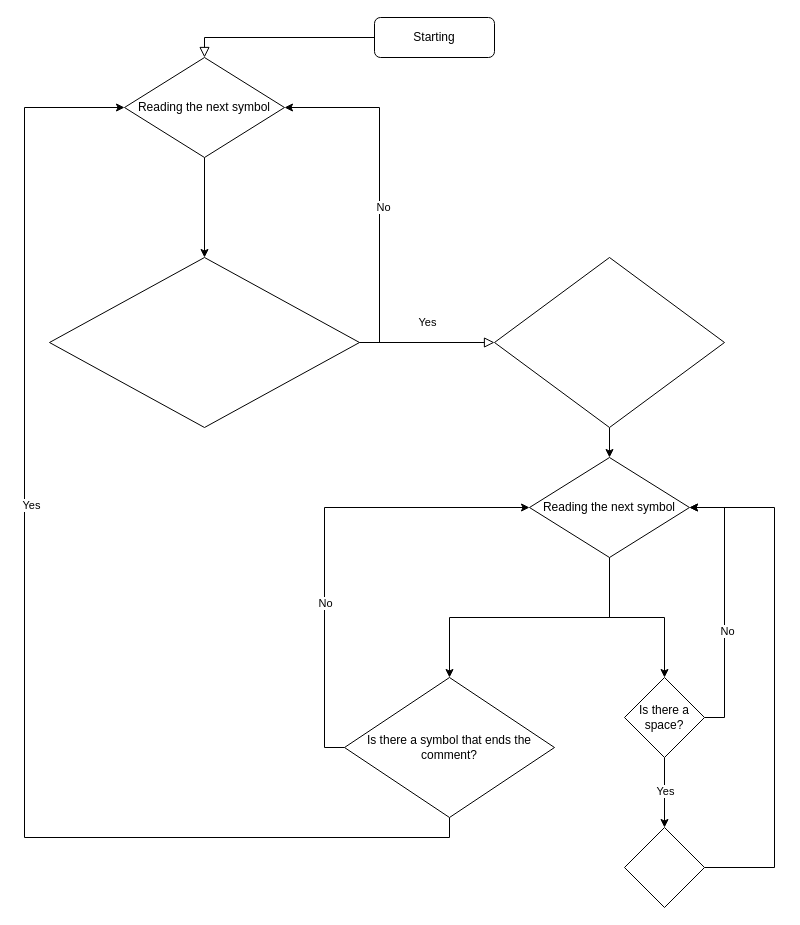
Image size: 800x925. Some labels were removed from this diagram. The shapes that lost their labels are listed below. From the top down, each one's centre as x and y in pixels, then its label:
At point 204,342: "The symbol that was read is starting the comment?".
At point 609,342: "Starting checking the number of words".
At point 664,867: "Increment".
